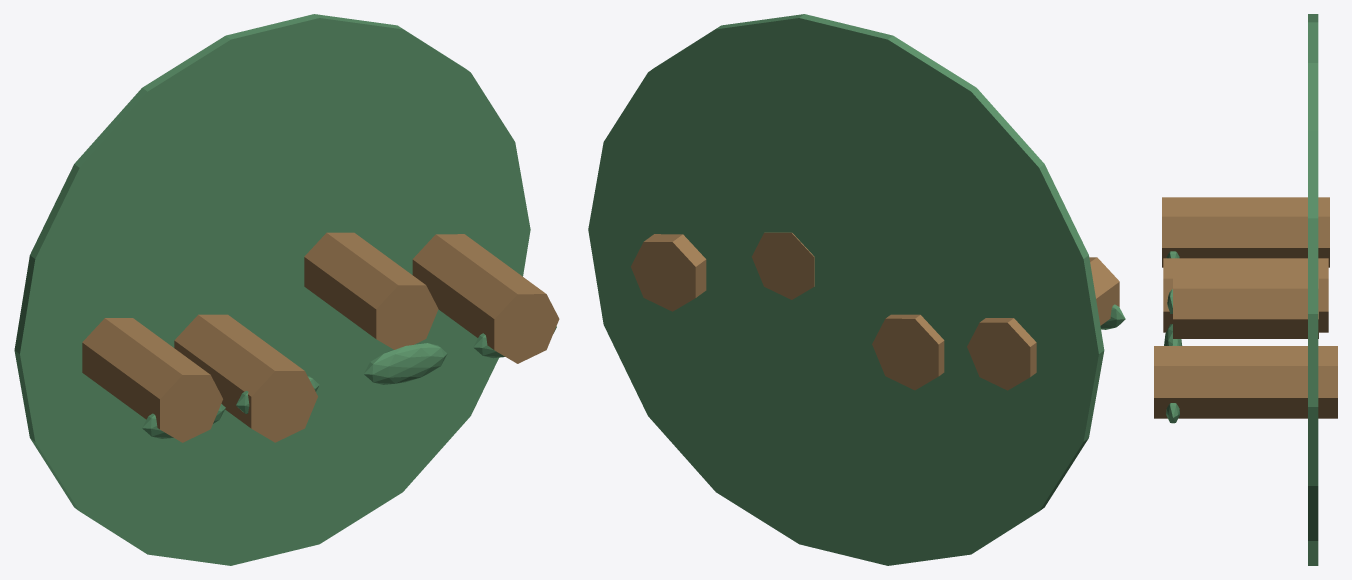
Rendered from 02_local_prop_cluster.glb.
3 views of the same model, side by side, from view 1: azimuth 30°, elevation 25°; view 2: azimuth 150°, elevation 25°; view 3: azimuth 270°, elevation 25° (orthographic). The views are drawn at different scales.
Parts seen in each view (by area): view 1: scatter_base, root_stump_3, root_stump_0, root_stump_1, root_stump_2, moss_2; view 2: scatter_base, root_stump_0, root_stump_3, root_stump_1, root_stump_2; view 3: root_stump_3, root_stump_0, root_stump_2, scatter_base, root_stump_1.
Boxes of the visible parts, x1,y1,x2,y2 form: scatter_base: [14, 14, 530, 565]; root_stump_3: [412, 234, 559, 363]; root_stump_0: [82, 318, 222, 442]; root_stump_1: [174, 314, 317, 442]; root_stump_2: [304, 232, 438, 349]; moss_2: [364, 343, 447, 384]; scatter_base: [588, 14, 1104, 565]; root_stump_0: [967, 257, 1119, 390]; root_stump_3: [631, 234, 706, 311]; root_stump_1: [872, 314, 944, 390]; root_stump_2: [751, 232, 814, 299]; root_stump_3: [1154, 346, 1337, 418]; root_stump_0: [1162, 197, 1329, 267]; root_stump_2: [1173, 269, 1318, 338]; scatter_base: [1308, 14, 1318, 565]; root_stump_1: [1163, 258, 1328, 332].
Size of the model in its own units: 1.9 by 1.87 by 0.6308.
